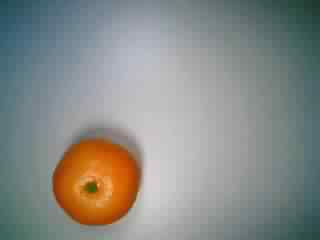orange: (44, 128, 139, 230)
